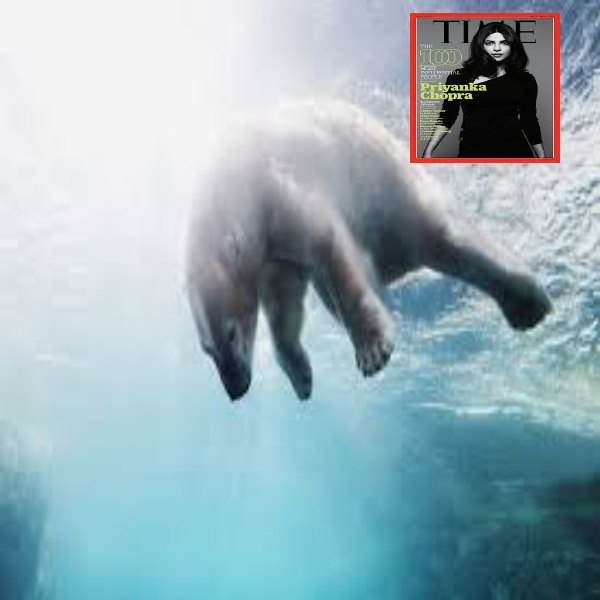time_cover: (408, 8, 560, 160)
